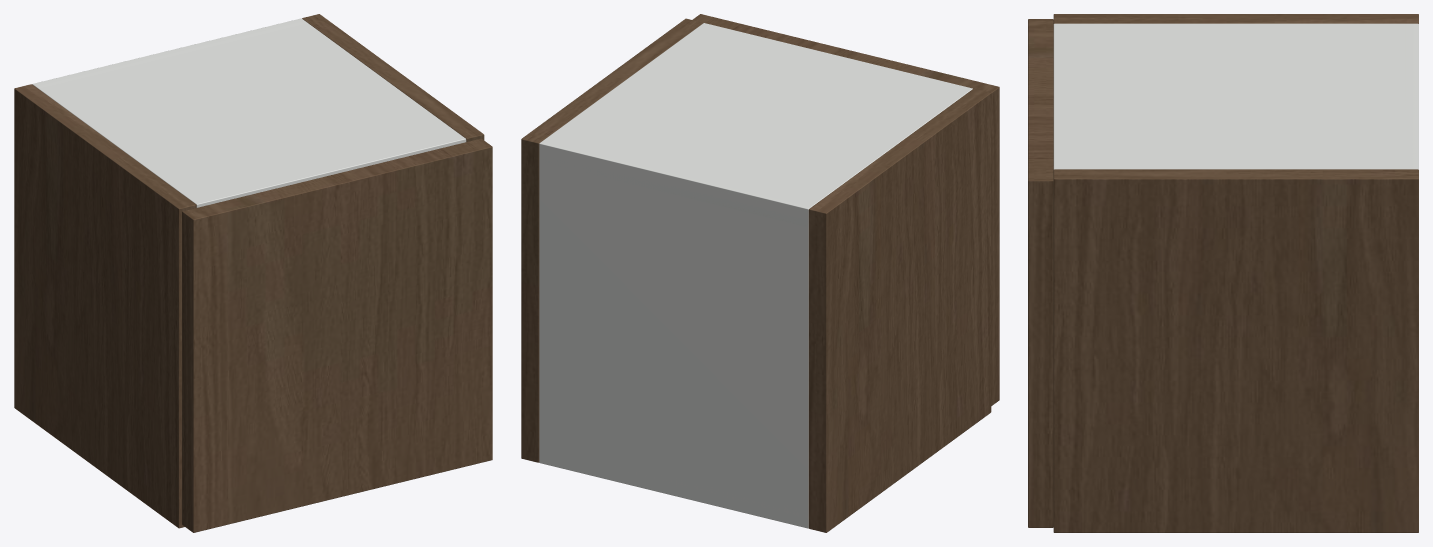
The model's file is oppein-pb-mso-w1212.glb.
The picture shows the model from 3 angles, left to right: view 1: azimuth 30°, elevation 25°; view 2: azimuth 150°, elevation 25°; view 3: azimuth 270°, elevation 25°; orthographic projection. The views are drawn at different scales.
Parts seen in each view (by area): view 1: Door, Cabinet side, Cabinet top, Cabinet side.001, Cabinet back; view 2: Cabinet back, Cabinet side, Cabinet top, Cabinet side.001, Door; view 3: Cabinet side.001, Cabinet top, Door, Cabinet side, Cabinet back.
Part boxes in pixels (x1,y1,x2,y2): Door: [182, 138, 492, 532]; Cabinet side: [14, 84, 196, 528]; Cabinet top: [38, 19, 466, 207]; Cabinet side.001: [302, 14, 484, 141]; Cabinet back: [32, 18, 307, 88]; Cabinet back: [539, 138, 814, 528]; Cabinet side: [808, 88, 991, 532]; Cabinet top: [540, 23, 972, 226]; Cabinet side.001: [521, 18, 703, 462]; Door: [692, 14, 999, 405]; Cabinet side.001: [1053, 169, 1418, 532]; Cabinet top: [1053, 23, 1418, 169]; Door: [1028, 19, 1053, 527]; Cabinet side: [1053, 14, 1418, 23]; Cabinet back: [1404, 23, 1418, 169].
Size of the model in its own units: 0.3048 by 0.3048 by 0.3048.
2 materials, 1 textured.
